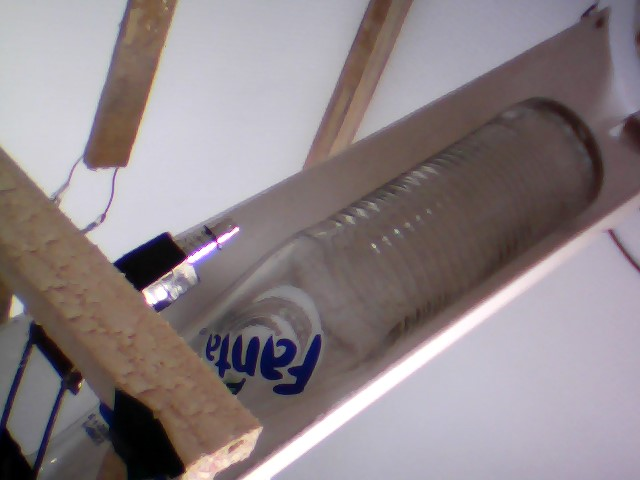vidrio: (171, 91, 607, 411)
